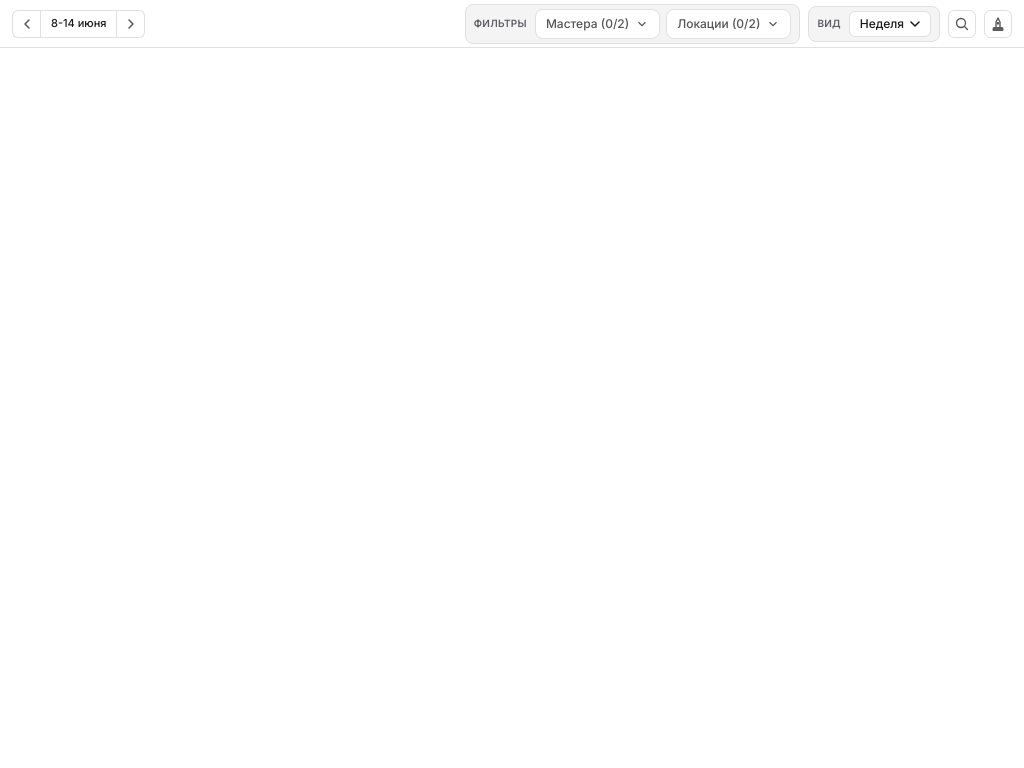
Test case: Topbar › opens calendar popover when date text is clicked
# Date text shows "8-14 июня" in week mode
Click the button with test id "date-nav-text".
click(79, 24)  # box [40, 10, 118, 38]
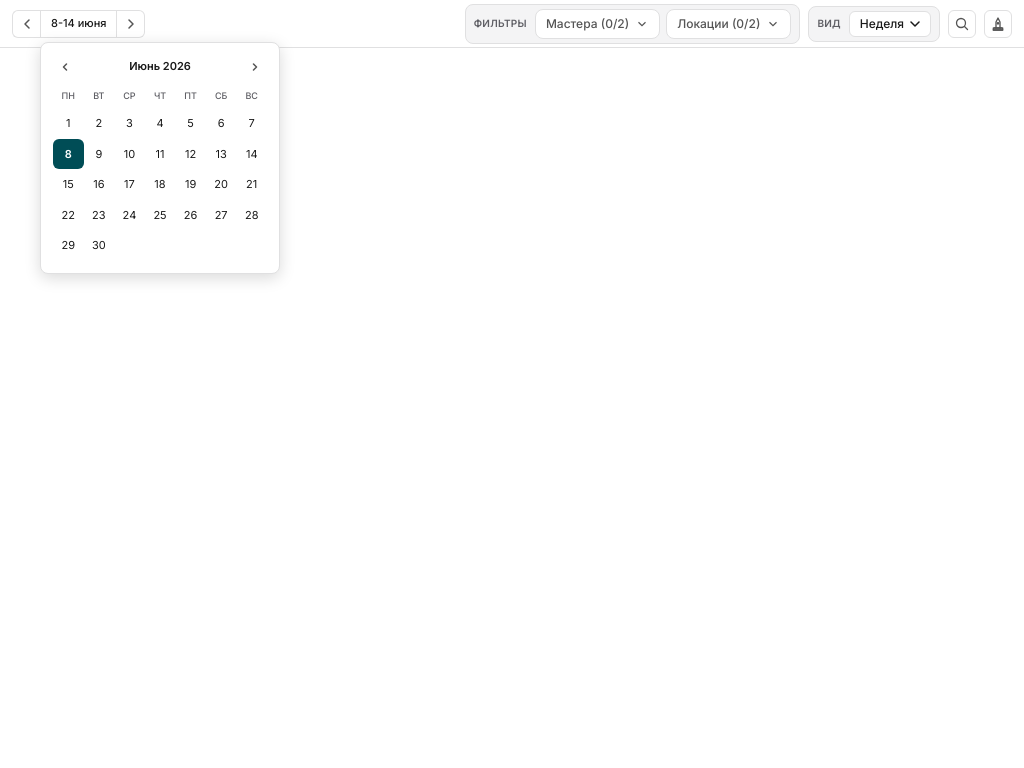
Expected: the dialog with test id "calendar-popover" is shown, [40, 42, 280, 274]
